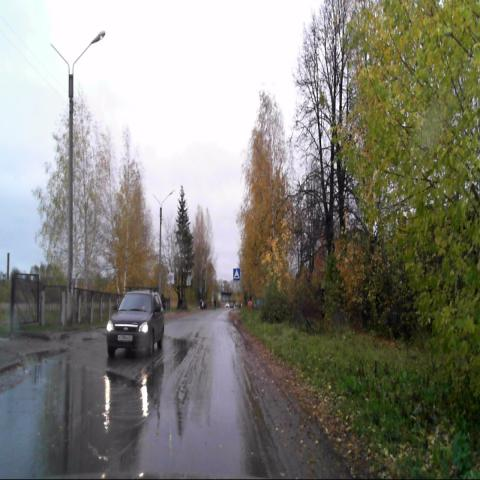5_20: (233, 268, 240, 282)
